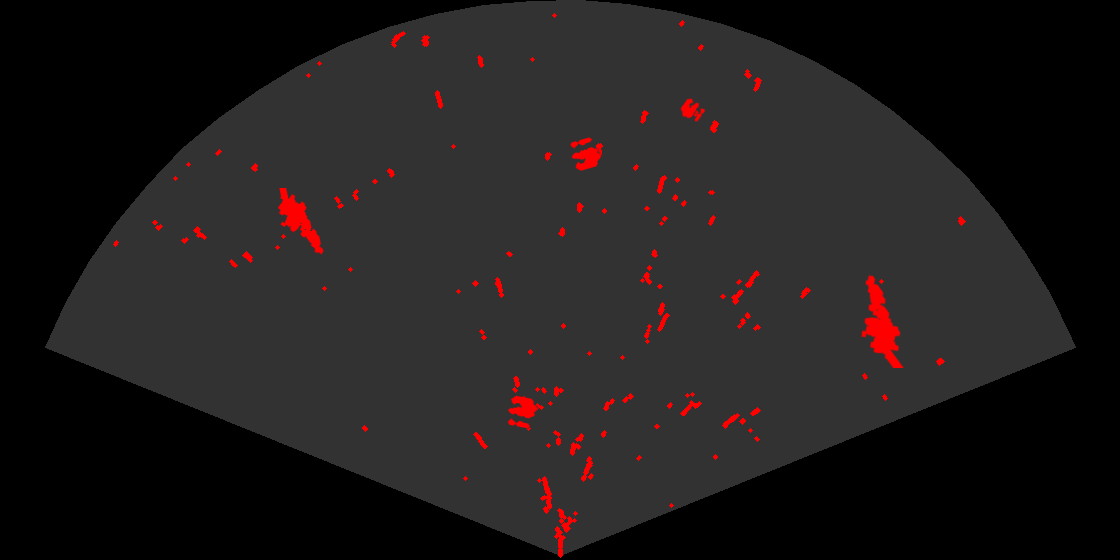ball: (569, 136, 603, 172), (506, 394, 539, 430), (679, 97, 707, 123)
frogman: (859, 273, 906, 368), (277, 188, 325, 256)
